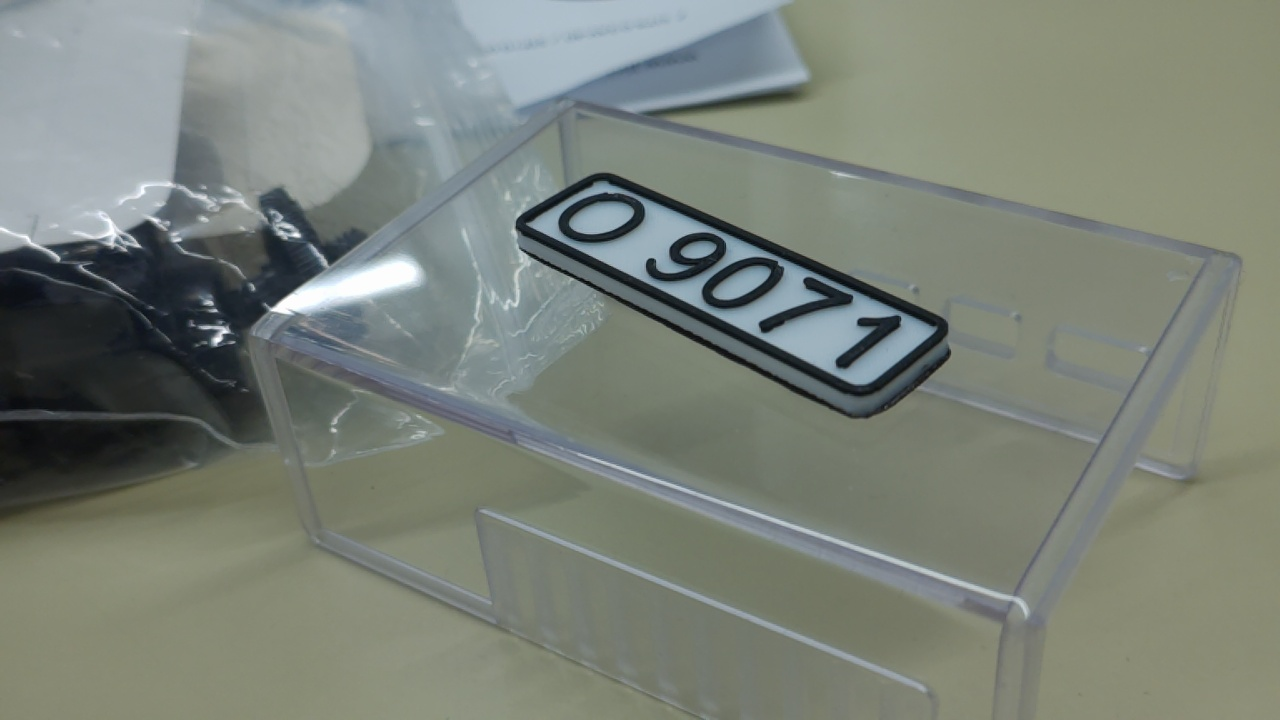license_plate: (508, 161, 955, 435)
